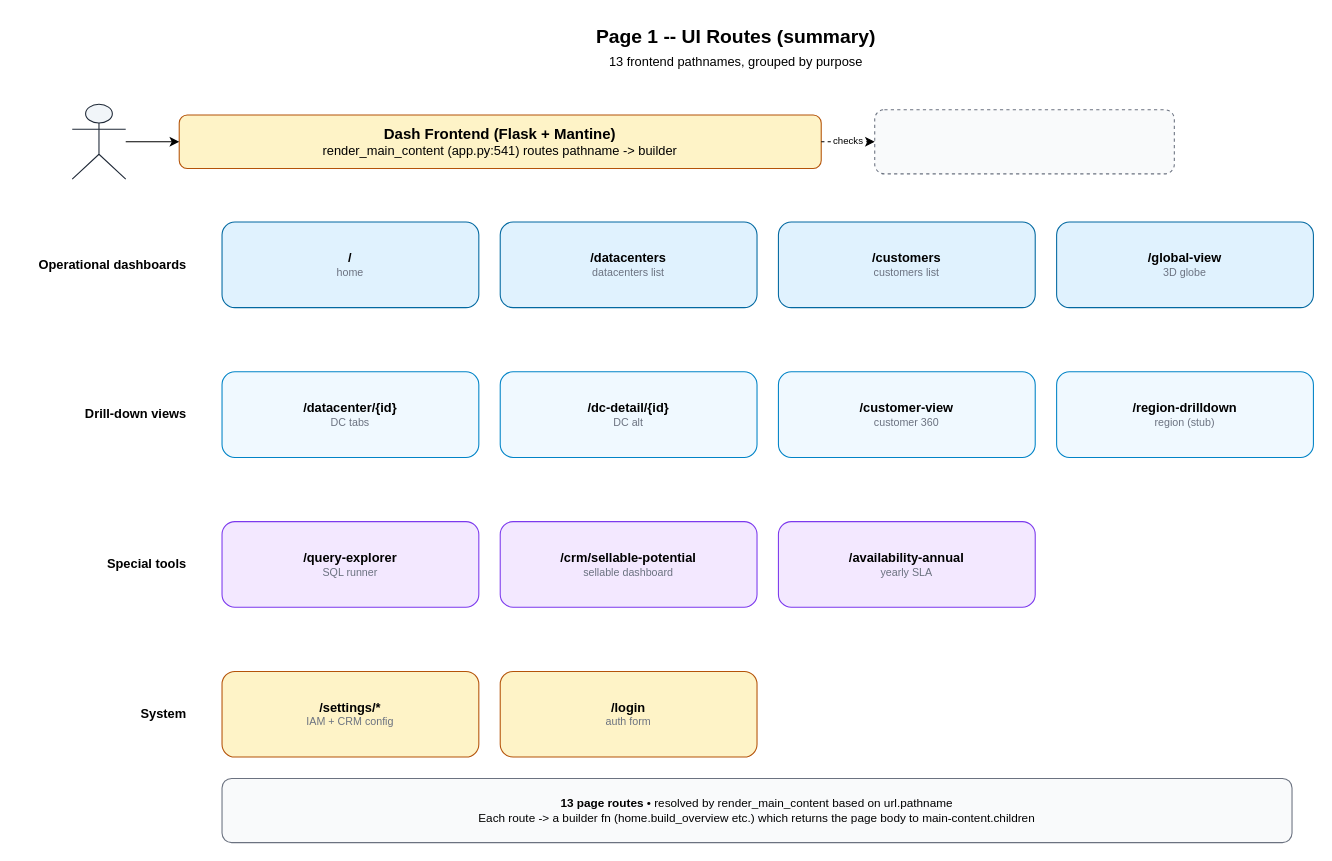
Image size: 1332x861. Some labels were removed from this diagram. The box of each missing label's shape, as (x1, y1, x2, y2) in pixels:
Auth gate can_view(uid, page_code) Flask session + permission_effective_map: (874, 109, 1174, 174)
User: (71, 103, 126, 179)
